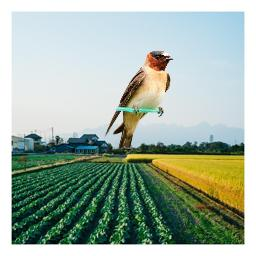Swallow: (104, 50, 174, 149)
